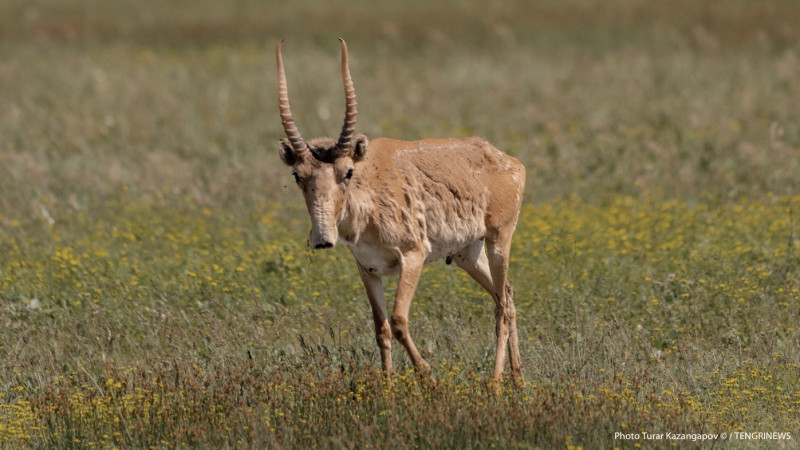saiga: (269, 37, 528, 383)
